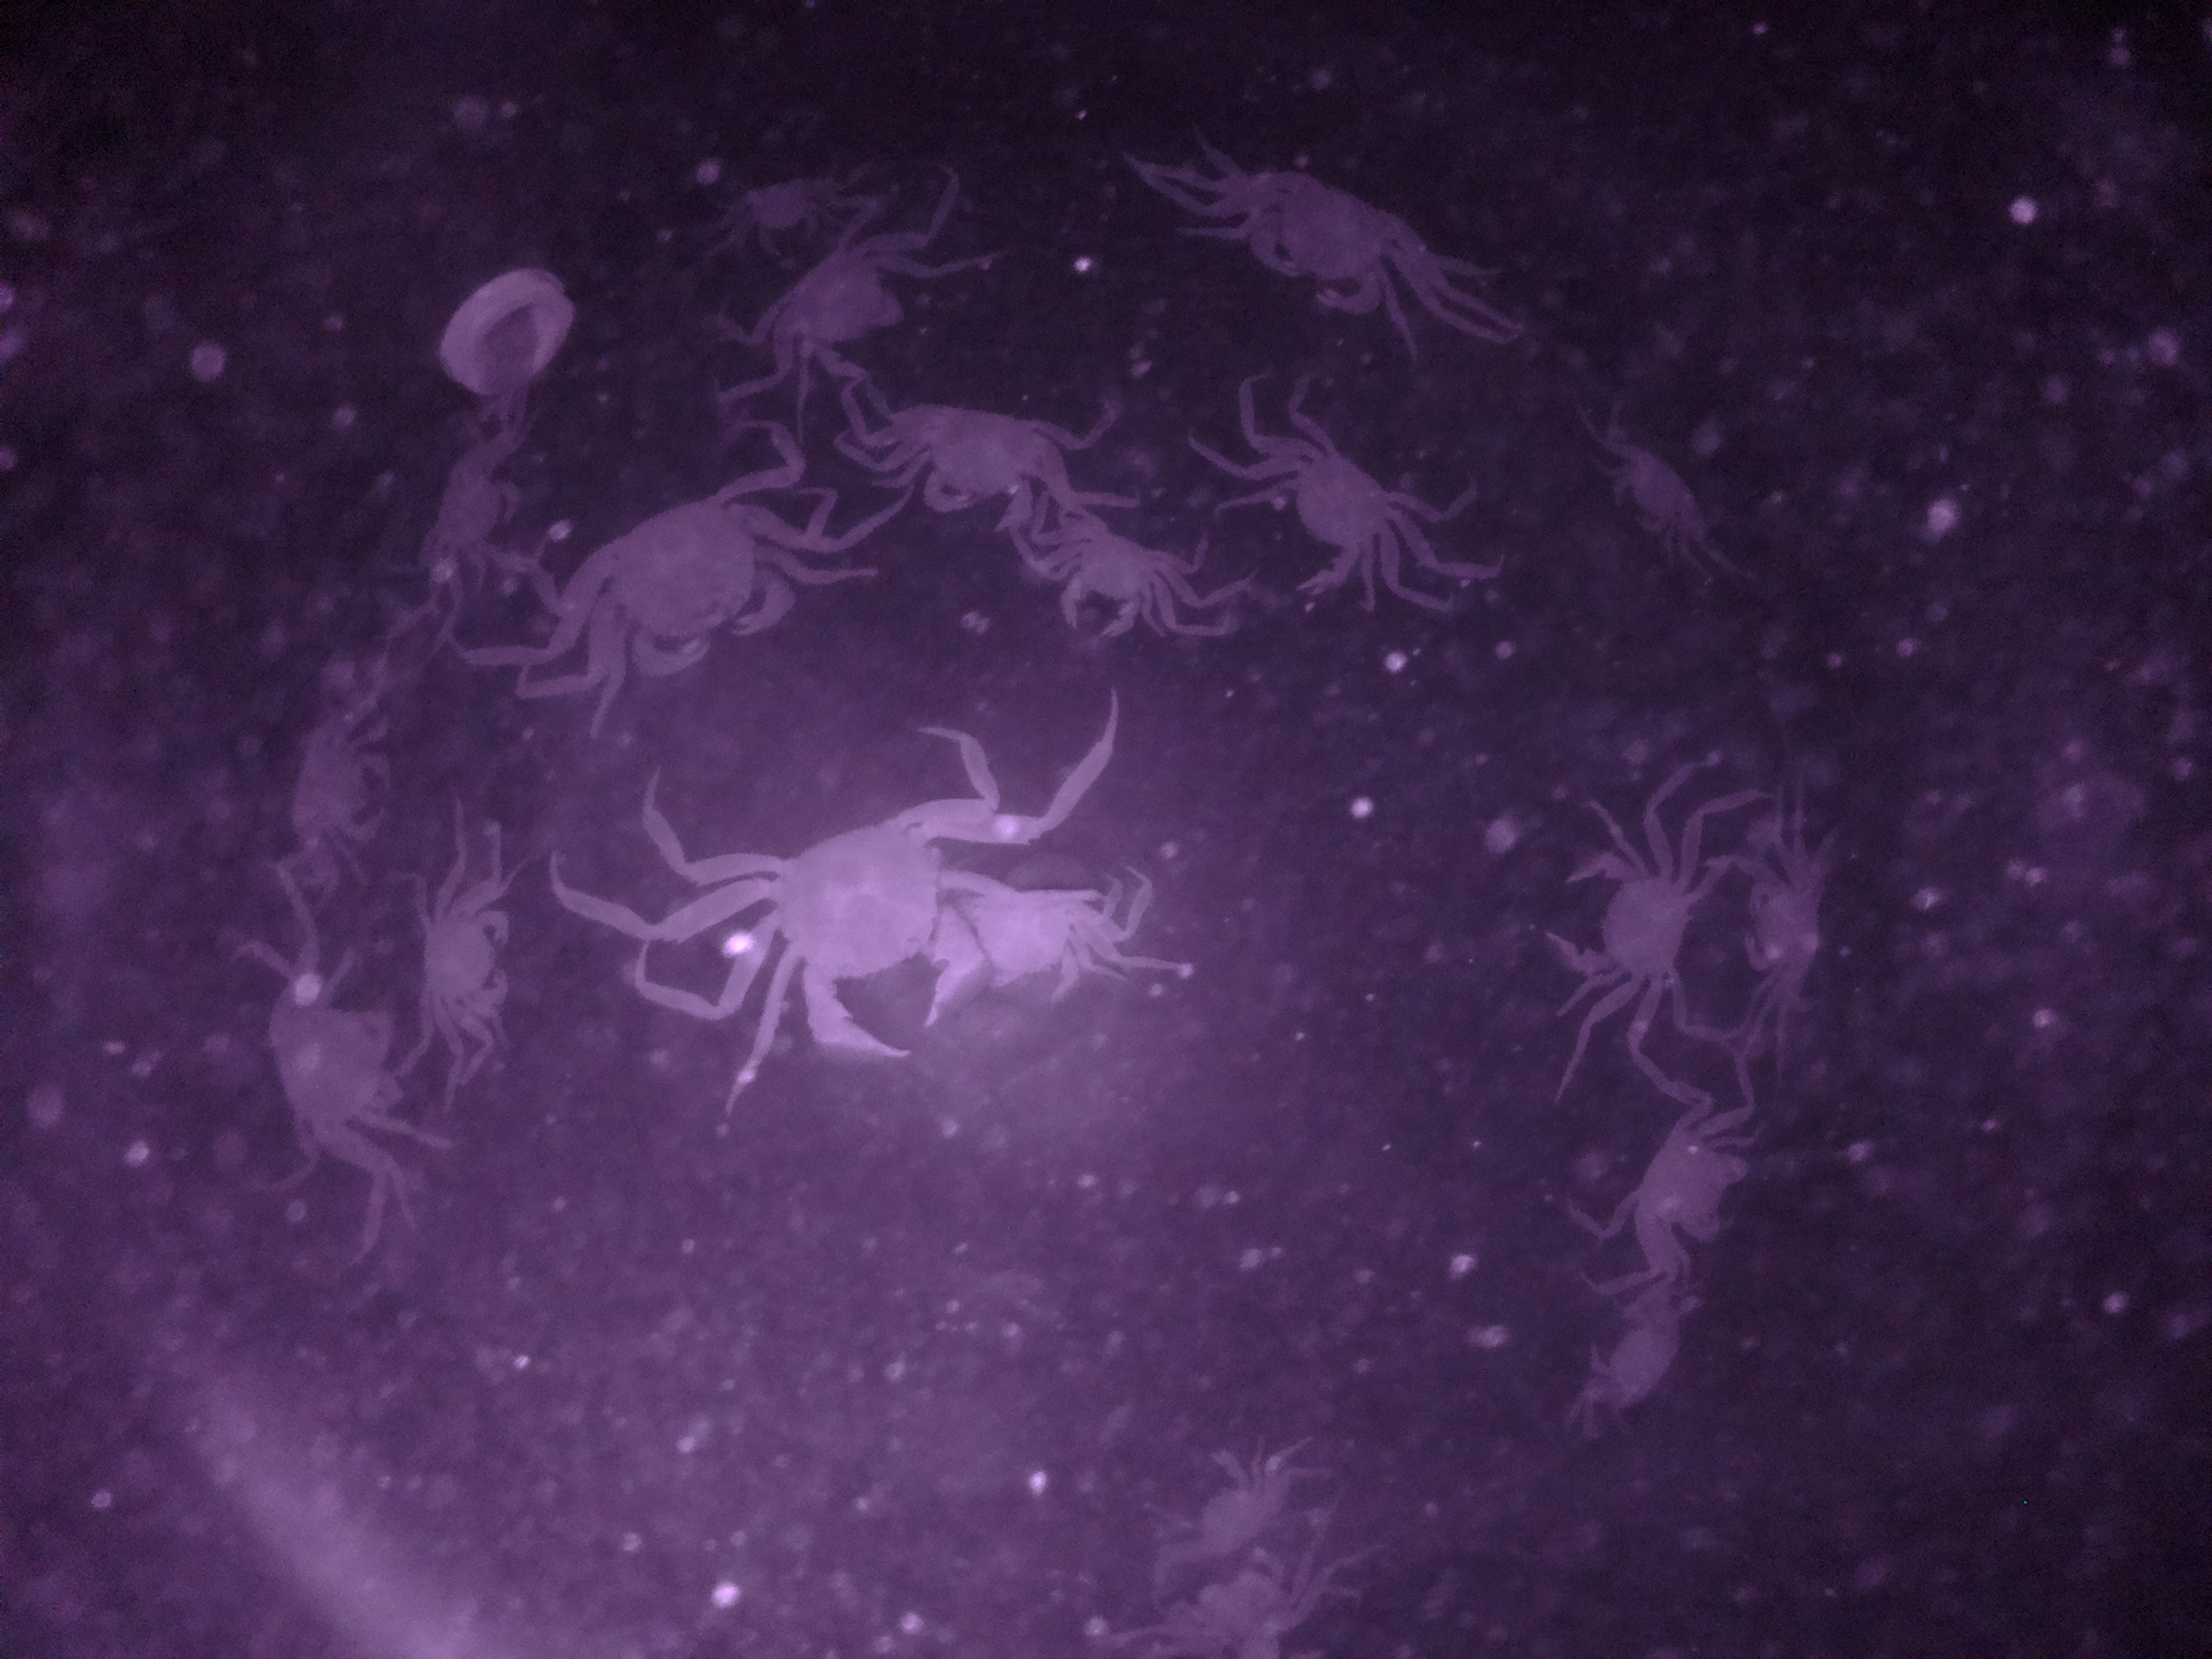Crab: (723, 782, 998, 1084), (571, 476, 810, 687), (1190, 146, 1439, 331), (1228, 423, 1423, 613), (244, 978, 420, 1176), (1534, 840, 1714, 1014), (763, 221, 921, 399), (881, 387, 1061, 538), (1609, 1100, 1750, 1277), (1040, 509, 1172, 650), (1160, 1439, 1294, 1577), (401, 885, 523, 1032)
